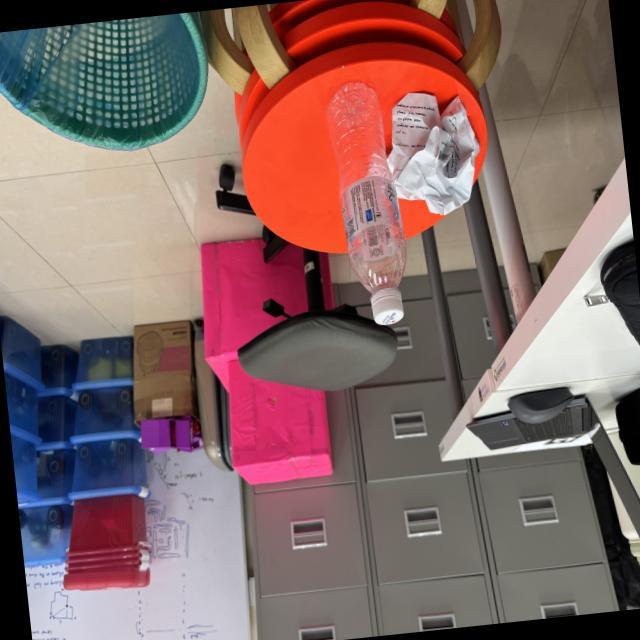crumpled_paper: (378, 70, 493, 232)
plastic_bottle: (316, 70, 416, 340)
